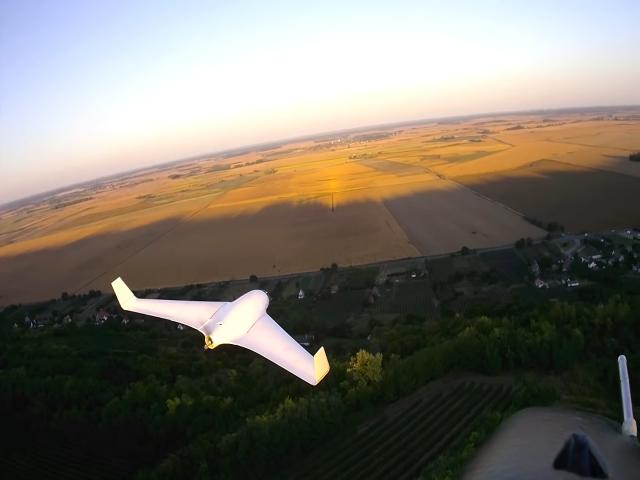plane: (111, 275, 330, 386)
